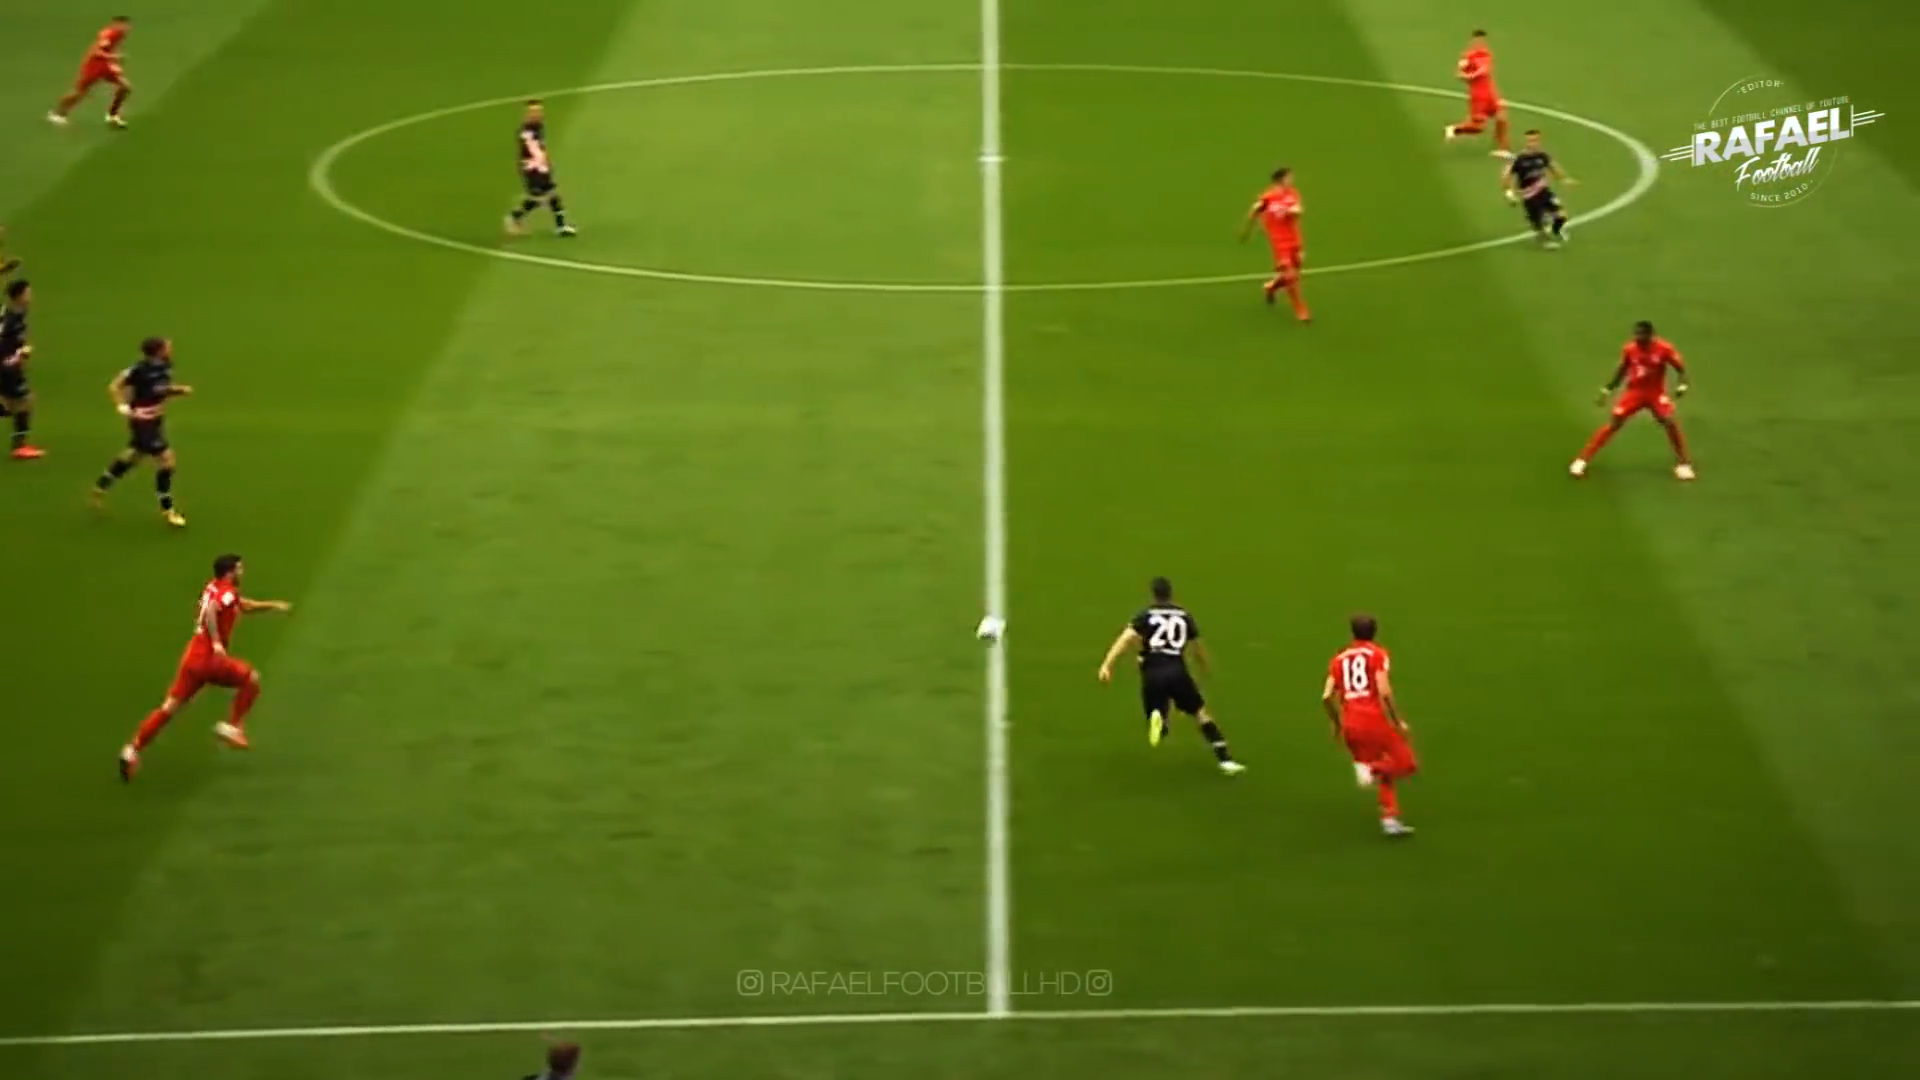ft: (975, 613, 1006, 644)
